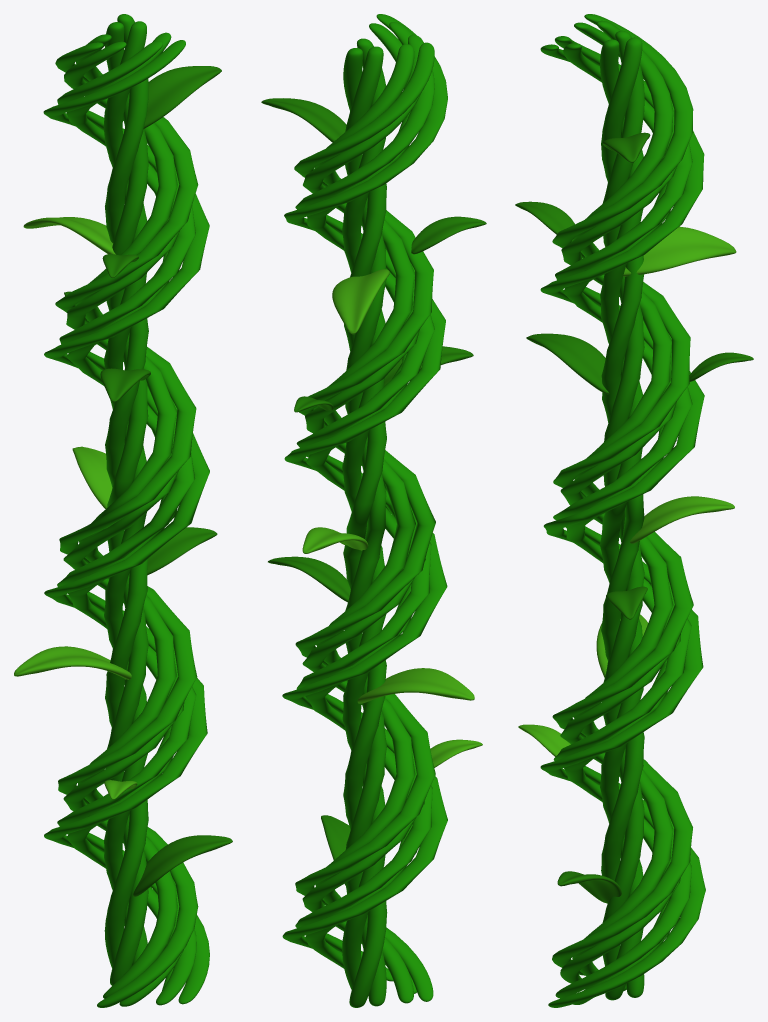
The model's file is liane.glb.
The picture shows the model from 3 angles, left to right: view 1: azimuth 30°, elevation 25°; view 2: azimuth 150°, elevation 25°; view 3: azimuth 270°, elevation 25°; orthographic projection.
Parts seen in each view (by area): view 1: Cube.002, Plane.003, Plane.005, Plane.006, Plane.001, Plane.004, Plane.002, Plane.007, Plane.008; view 2: Cube.002, Plane.006, Plane.002, Plane.003, Plane.004, Plane.008, Plane.001, Plane.005, Plane.009, Plane.007; view 3: Cube.002, Plane.002, Plane.007, Plane.001, Plane.005, Plane.008, Plane.003, Plane.009, Plane.004, Plane.010.
Boxes of the visible parts, x1=… form: Cube.002: x1=43, y1=14, x2=209, y2=1007; Plane.003: x1=143, y1=66, x2=221, y2=128; Plane.005: x1=133, y1=835, x2=232, y2=896; Plane.006: x1=14, y1=646, x2=131, y2=679; Plane.001: x1=72, y1=446, x2=112, y2=509; Plane.004: x1=147, y1=527, x2=217, y2=575; Plane.002: x1=23, y1=217, x2=115, y2=254; Plane.007: x1=100, y1=368, x2=150, y2=402; Plane.008: x1=102, y1=254, x2=138, y2=277; Cube.002: x1=282, y1=14, x2=447, y2=1007; Plane.006: x1=357, y1=668, x2=474, y2=703; Plane.002: x1=332, y1=269, x2=389, y2=334; Plane.003: x1=261, y1=98, x2=346, y2=142; Plane.004: x1=268, y1=556, x2=350, y2=602; Plane.008: x1=411, y1=216, x2=486, y2=254; Plane.001: x1=302, y1=527, x2=368, y2=553; Plane.005: x1=321, y1=815, x2=362, y2=885; Plane.009: x1=430, y1=739, x2=482, y2=767; Plane.007: x1=384, y1=346, x2=473, y2=385; Cube.002: x1=540, y1=14, x2=705, y2=1007; Plane.002: x1=623, y1=226, x2=736, y2=276; Plane.007: x1=526, y1=333, x2=609, y2=394; Plane.001: x1=630, y1=496, x2=734, y2=543; Plane.005: x1=557, y1=871, x2=621, y2=903; Plane.008: x1=515, y1=201, x2=574, y2=240; Plane.003: x1=602, y1=132, x2=650, y2=162; Plane.009: x1=518, y1=724, x2=570, y2=756; Plane.004: x1=606, y1=586, x2=647, y2=619; Plane.010: x1=689, y1=352, x2=753, y2=381.
Bounding box in the file's own units: 23.49 × 103 × 23.23.
